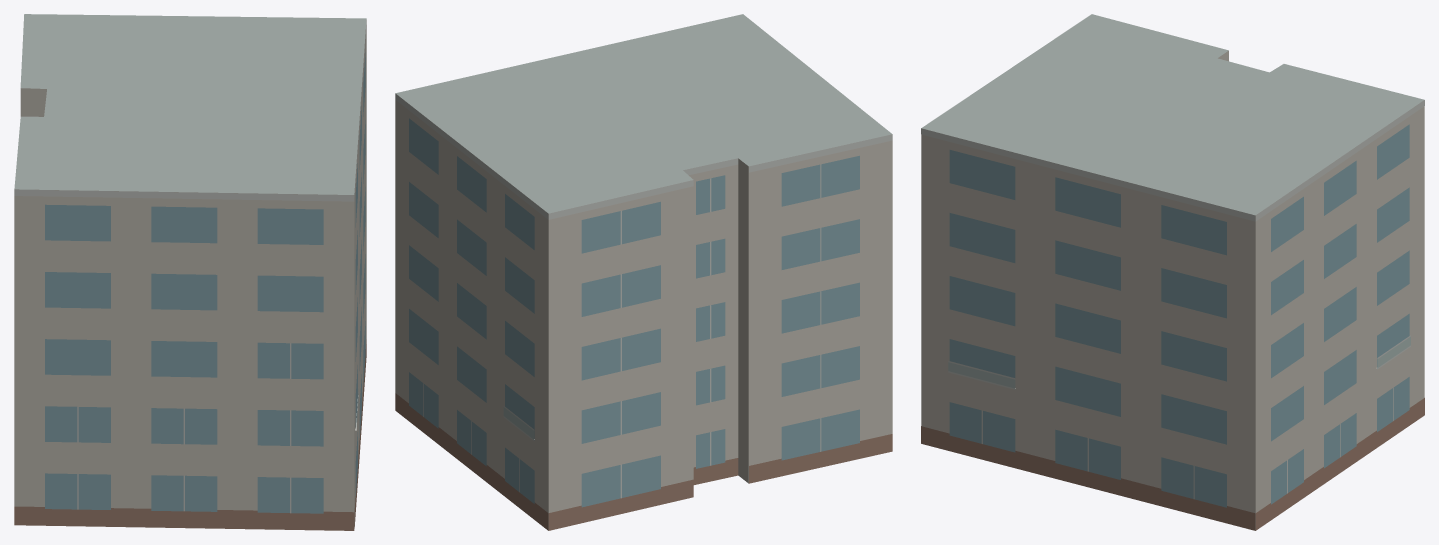
The model's file is survey-upis-32744270.glb.
3 views of the same model, side by side, from view 1: azimuth 30°, elevation 25°; view 2: azimuth 150°, elevation 25°; view 3: azimuth 270°, elevation 25° (orthographic). The views are drawn at different scales.
Visible parts, largest first — view 1: survey-upis-32744270.tmp; view 2: survey-upis-32744270.tmp; view 3: survey-upis-32744270.tmp.
Boxes of the visible parts, left/top/right/bottom form: survey-upis-32744270.tmp: left=14, top=14, right=366, bottom=530; survey-upis-32744270.tmp: left=395, top=14, right=892, bottom=530; survey-upis-32744270.tmp: left=921, top=14, right=1424, bottom=530.
Size of the model in its own units: 16.92 by 12.35 by 17.88.
